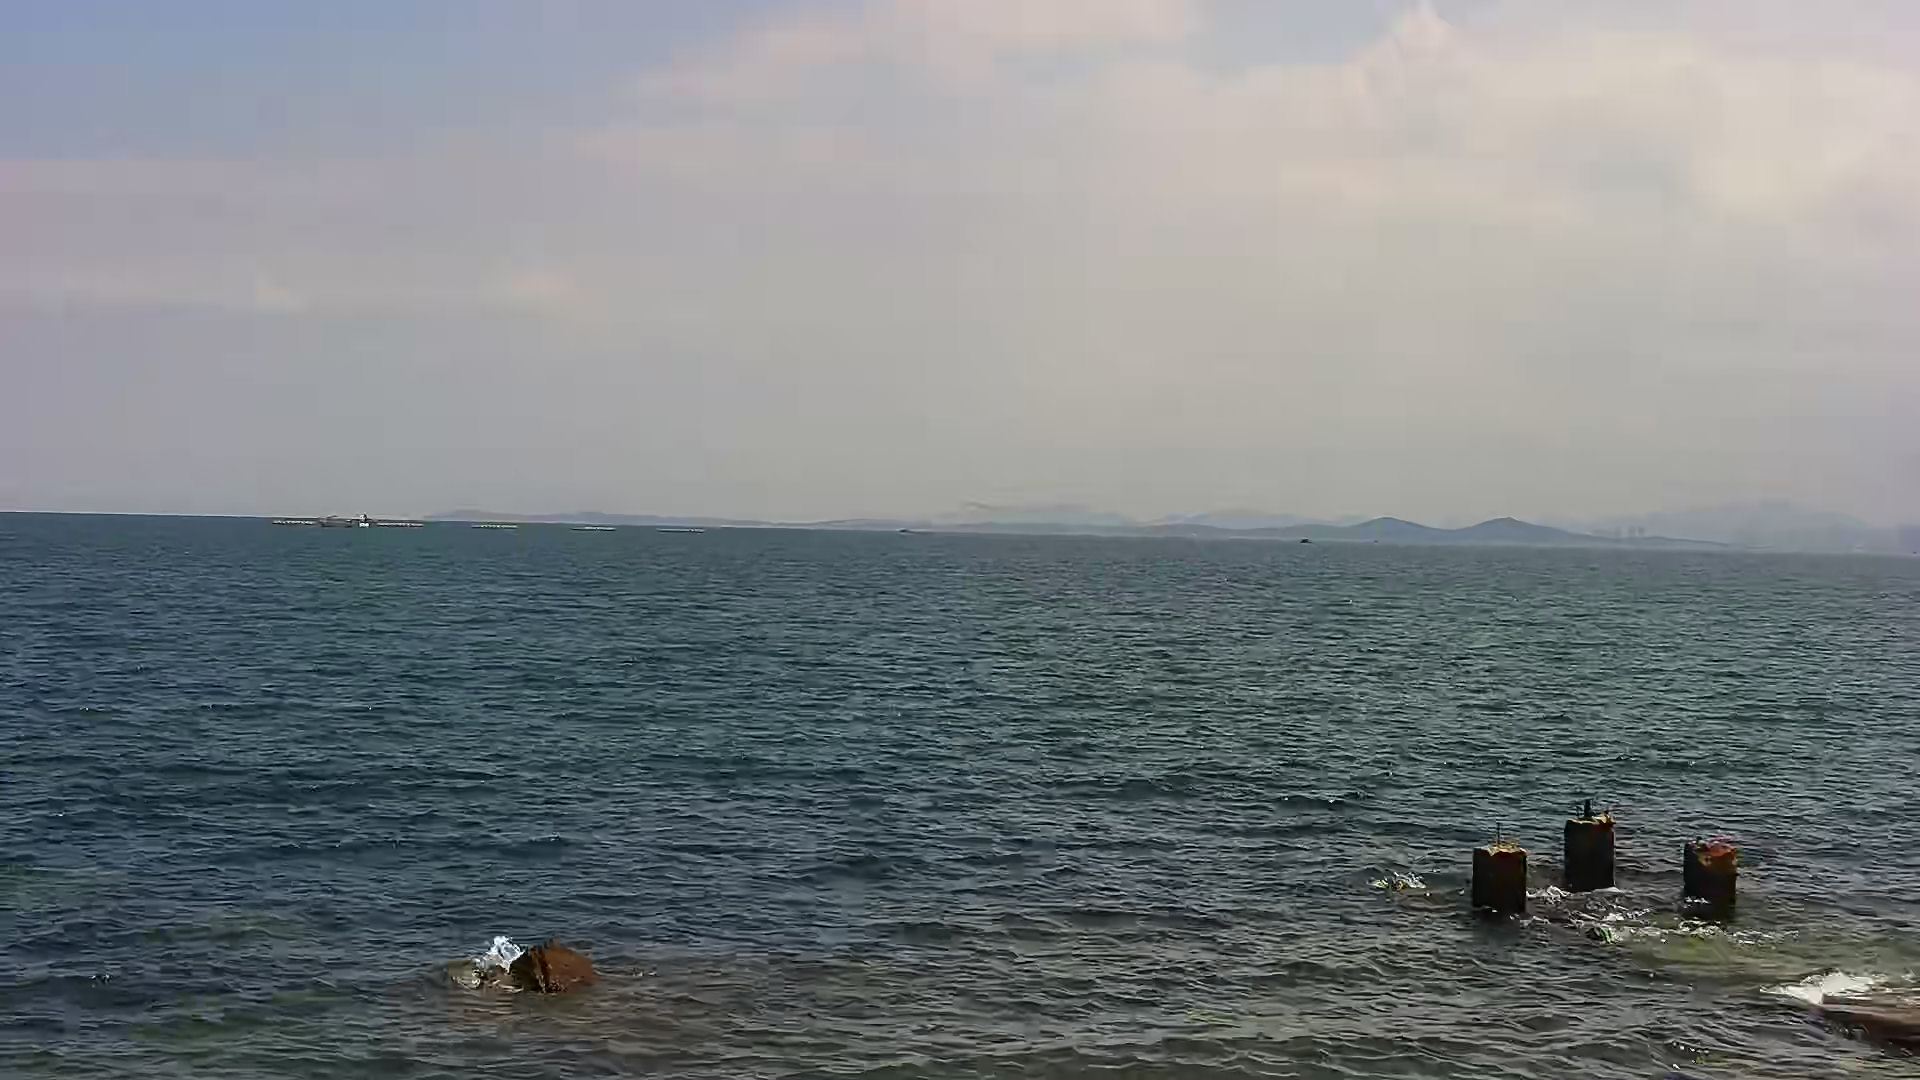platform: (371, 505, 442, 537), (261, 502, 327, 534), (651, 513, 717, 541), (468, 513, 533, 537), (323, 508, 373, 531), (564, 516, 622, 533), (1288, 533, 1323, 550)
rock: (448, 914, 603, 1007), (1452, 825, 1552, 942), (1811, 963, 1920, 1063), (1551, 783, 1640, 899), (1677, 822, 1763, 922)
